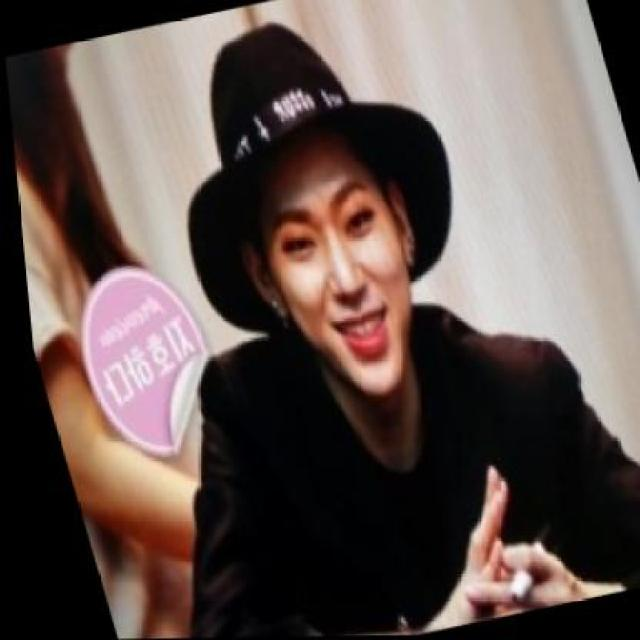hat: (122, 0, 489, 351)
